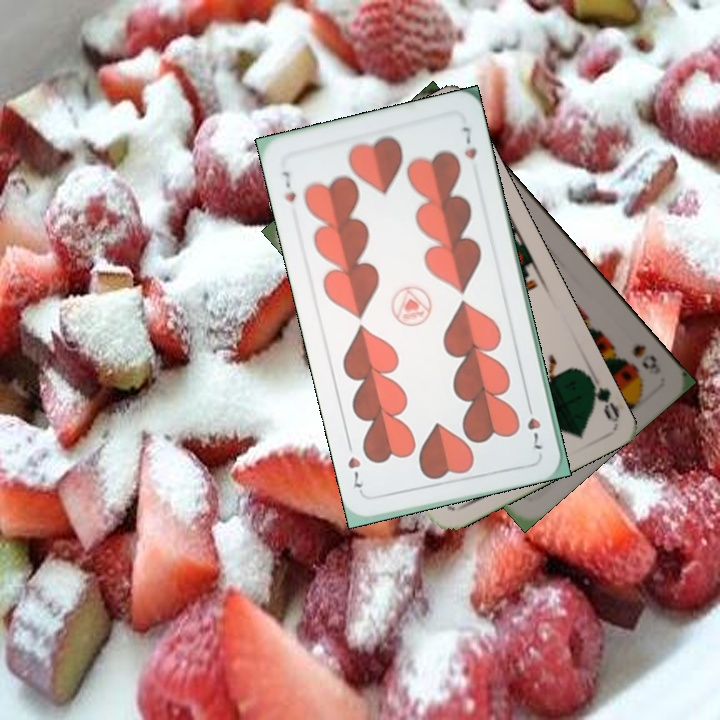GO: (581, 369, 622, 423)
H7: (522, 397, 545, 452), (278, 167, 299, 205)
S8: (628, 340, 660, 373)
